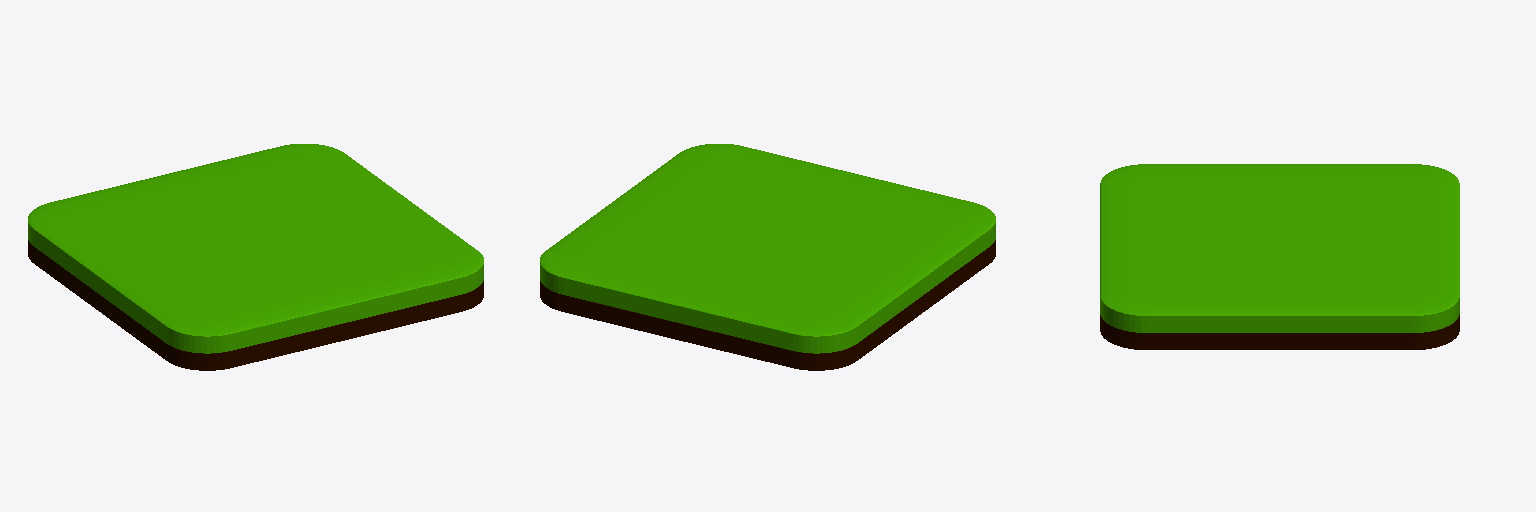
The model's file is tile-light.obj.
3 views of the same model, side by side, from view 1: azimuth 30°, elevation 25°; view 2: azimuth 150°, elevation 25°; view 3: azimuth 270°, elevation 25° (orthographic).
Visible parts, largest first — view 1: Cube.000_Cube.002; view 2: Cube.000_Cube.002; view 3: Cube.000_Cube.002.
Part boxes in pixels (x1,y1,x2,y2): Cube.000_Cube.002: (28, 144, 483, 370); Cube.000_Cube.002: (540, 144, 995, 370); Cube.000_Cube.002: (1100, 164, 1459, 349).
Size of the model in its own units: 10 by 1.13 by 10.